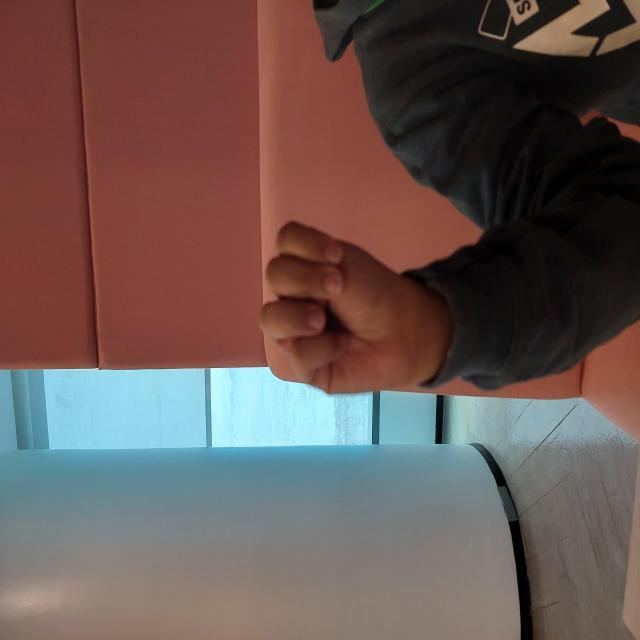M: (235, 253, 430, 432)
